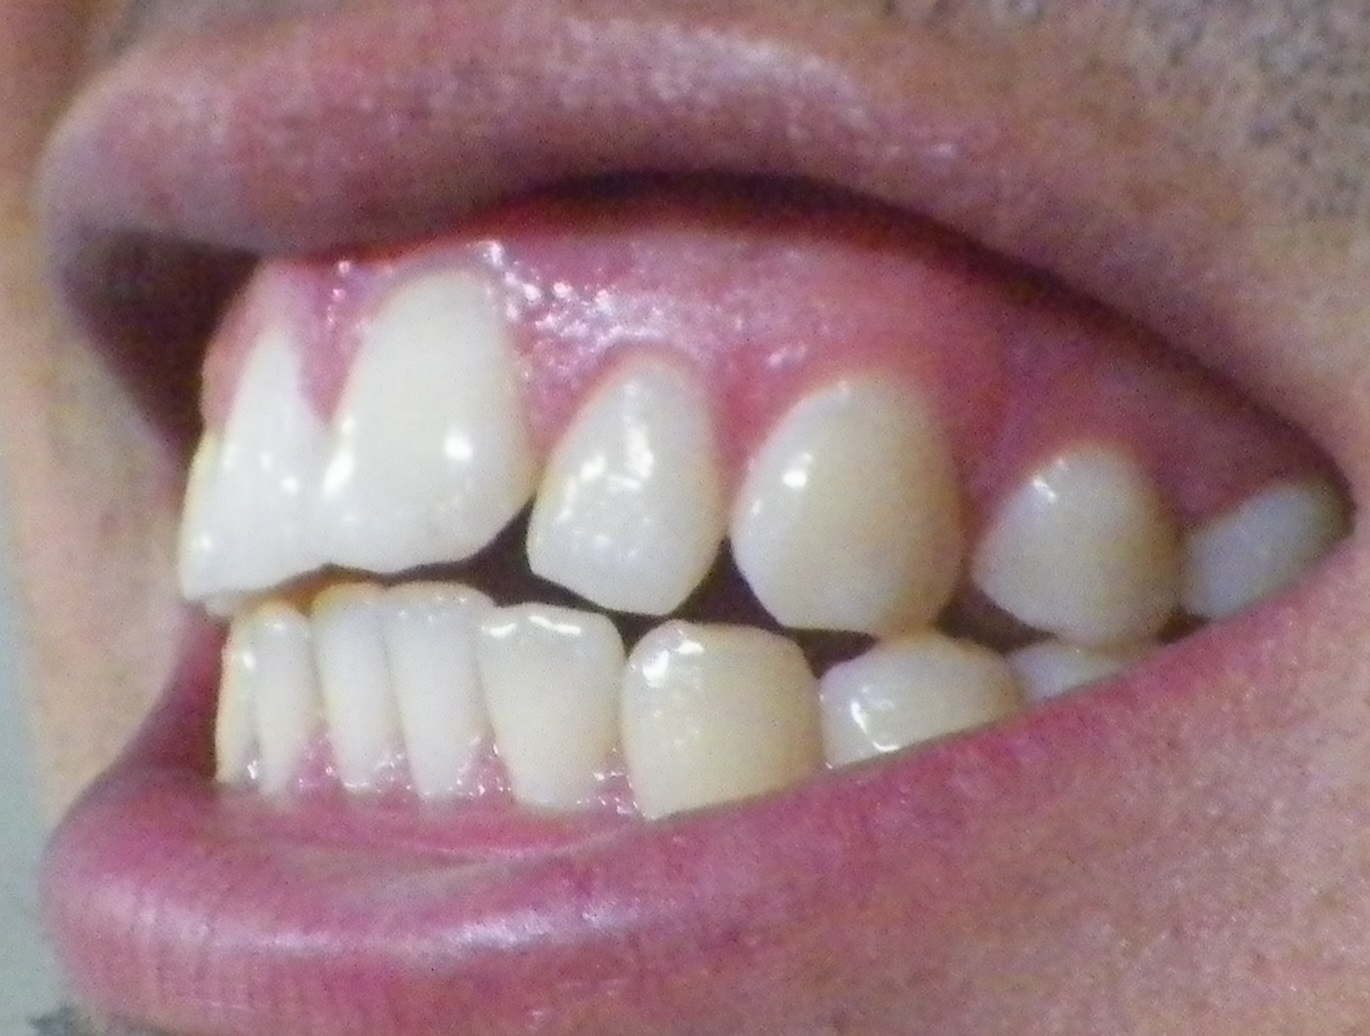boca: (166, 269, 1343, 804)
